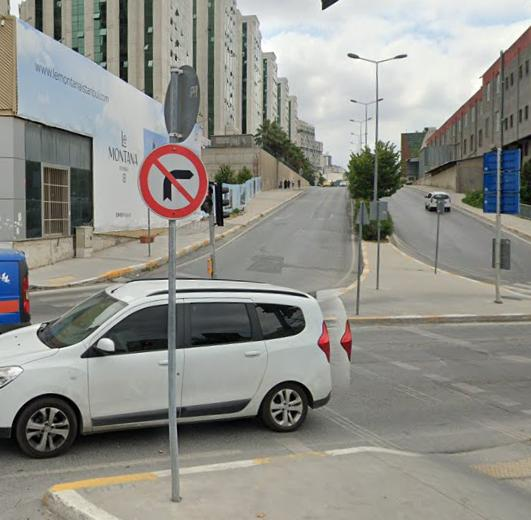rightturnsareforbidden: (139, 145, 208, 216)
